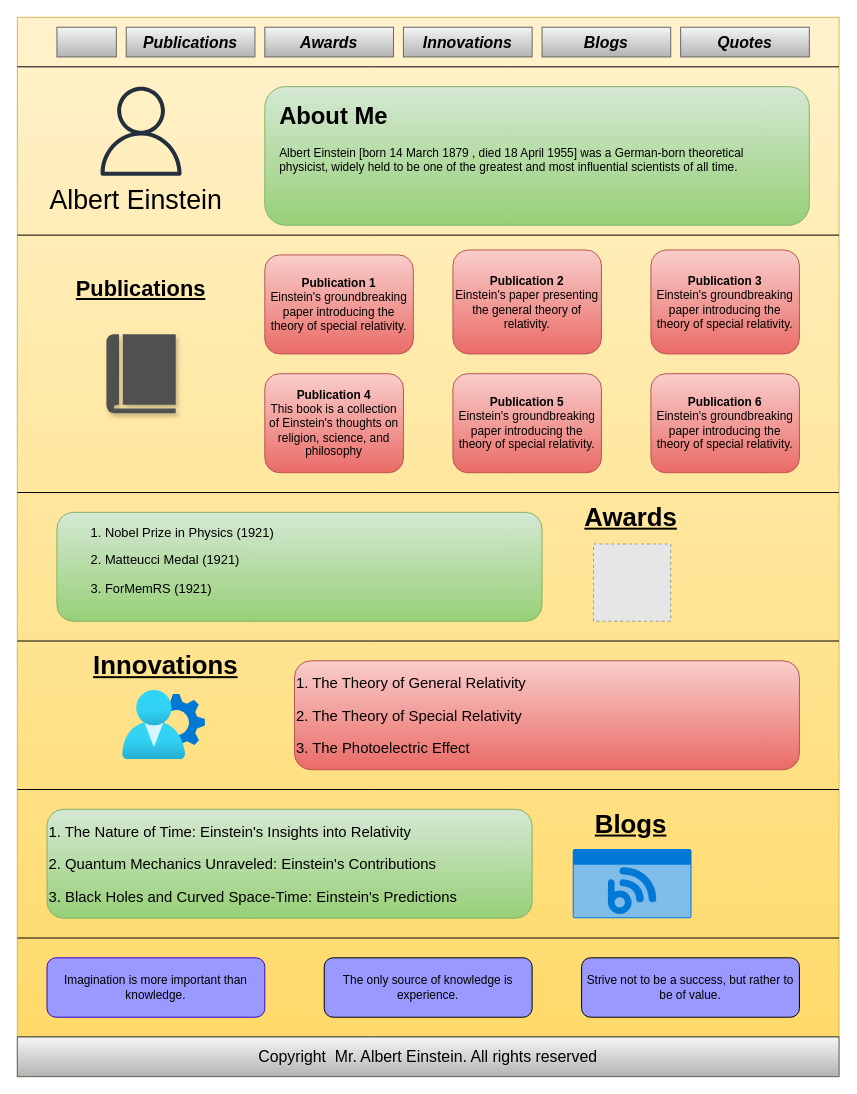
Some shapes in this 857 by 1094 pixel diagram are drawn without their labels. Grey dashed boxes stand in for pictures. The centre of each missing label's shape, as x and y in pixels:
"About" goes at pixel 86 41.
"Blog" goes at pixel 631 883.
